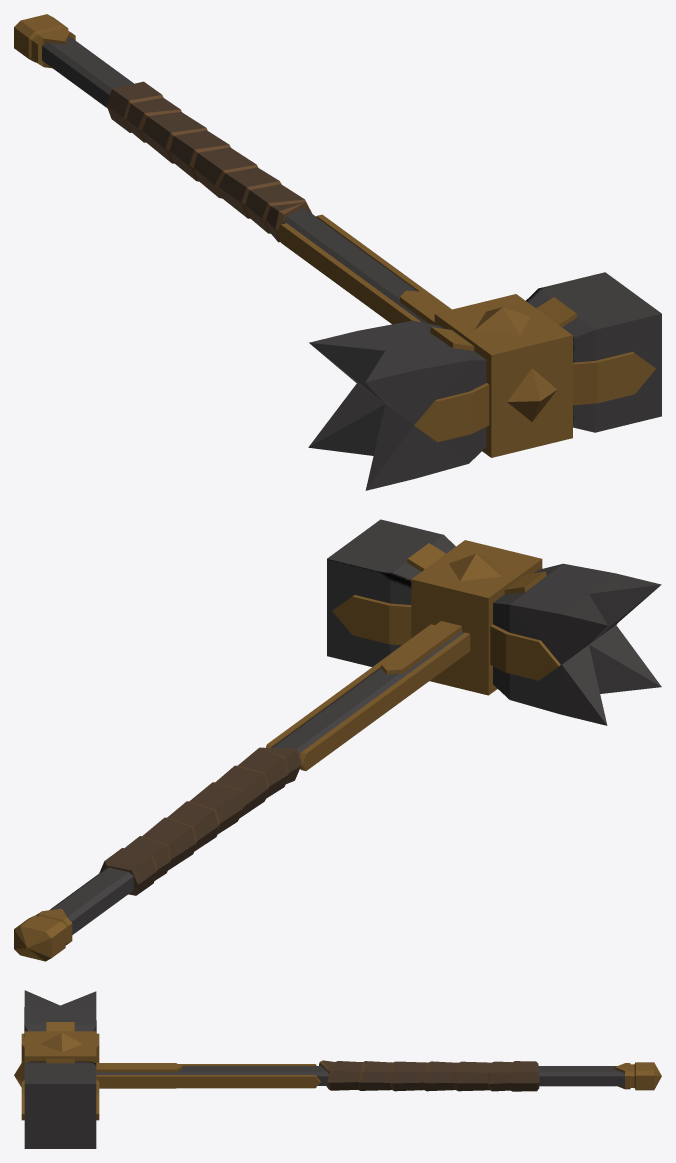
The model's file is SM_Hammer_War_Dwarf.fbx.
3 views of the same model, one above another, from view 1: azimuth 30°, elevation 25°; view 2: azimuth 150°, elevation 25°; view 3: azimuth 270°, elevation 25° (orthographic). The views are drawn at different scales.
Parts seen in each view (by area): view 1: SM_Hammer_War_Dwarf; view 2: SM_Hammer_War_Dwarf; view 3: SM_Hammer_War_Dwarf.
Boxes of the visible parts, x1,y1,x2,y2 form: SM_Hammer_War_Dwarf: [14, 14, 661, 490]; SM_Hammer_War_Dwarf: [14, 519, 661, 961]; SM_Hammer_War_Dwarf: [14, 990, 661, 1148].
Size of the model in its own units: 51.27 by 153 by 22.27.
